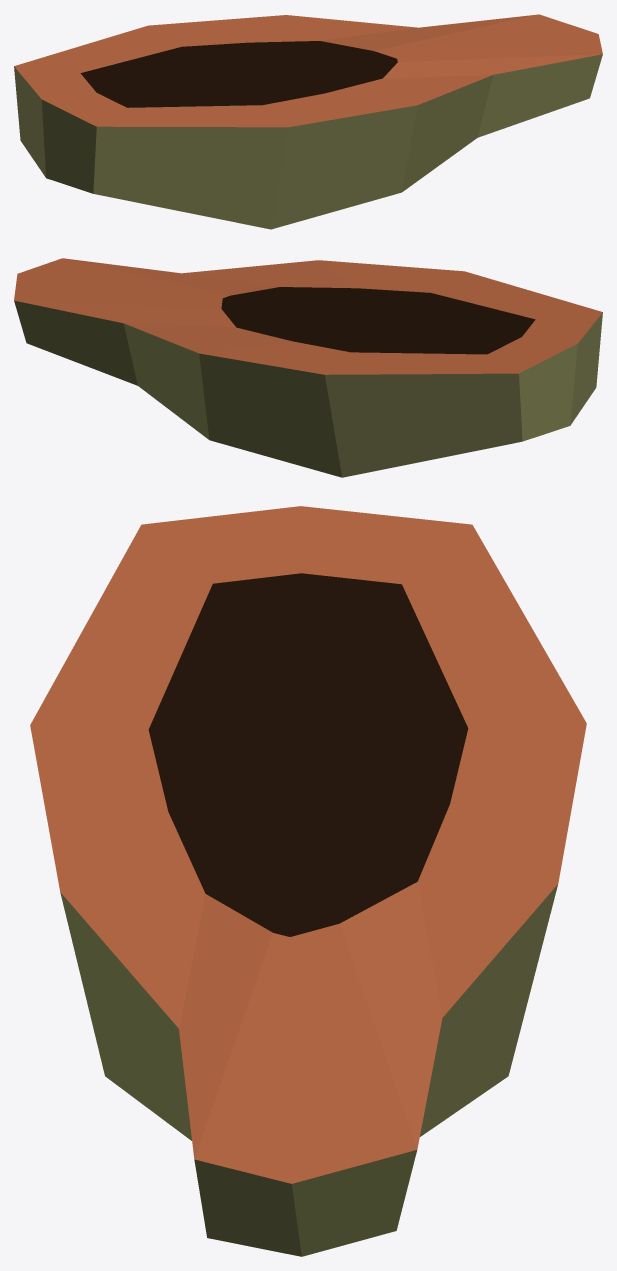
File: papayaHalf.fbx
The picture shows the model from 3 angles, top to bottom: view 1: azimuth 30°, elevation 25°; view 2: azimuth 150°, elevation 25°; view 3: azimuth 270°, elevation 25°; orthographic projection. The views are drawn at different scales.
Parts seen in each view (by area): view 1: papayaHalf; view 2: papayaHalf; view 3: papayaHalf.
Part boxes in pixels (x1=…): papayaHalf: x1=14, y1=14, x2=602, y2=229; papayaHalf: x1=14, y1=258, x2=602, y2=477; papayaHalf: x1=30, y1=506, x2=586, y2=1256.
Size of the model in its own units: 16.6 by 4.33 by 7.22.
1 material, 1 textured.
